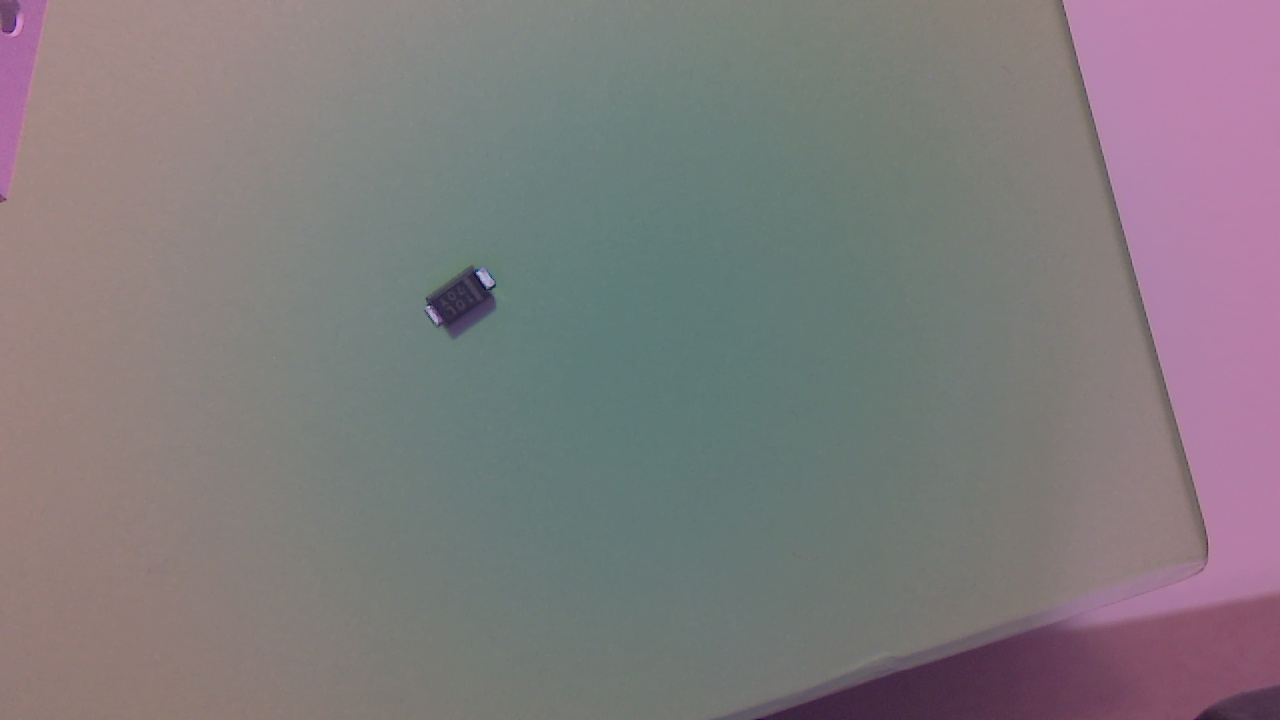Diode: (427, 267, 506, 341)
